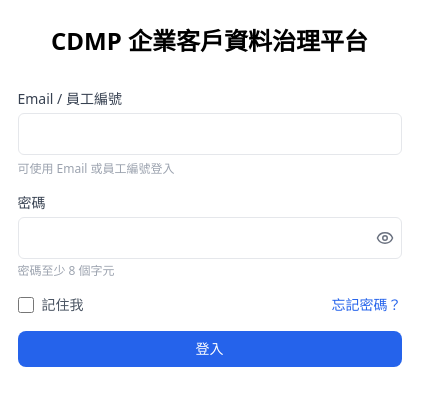
Test: LoginPage › 前端欄位驗證 › 密碼空白提交顯示錯誤訊息
This screenshot has width=421, height=396.
Type "admin@example.com" into the field labelled "Email / 員工編號". click: (210, 134)
box: [18,113,402,155]
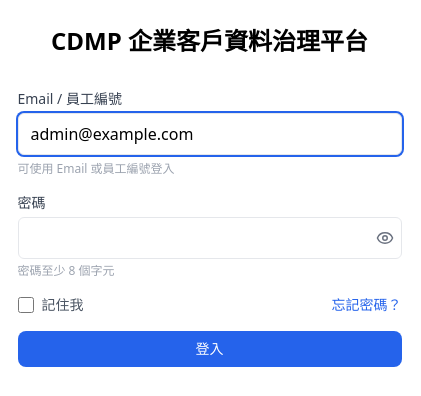
Click the button "登入". click: (210, 349)
box: [18,331,402,367]
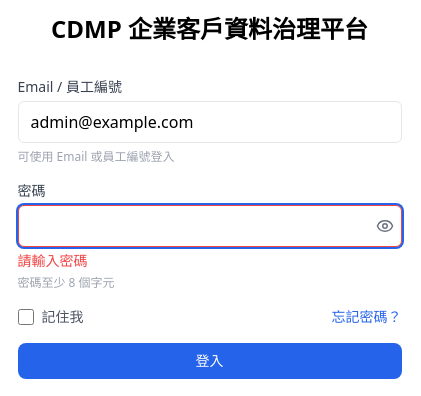
Expected: the text "請輸入密碼" is shown, [18,251,88,270]
